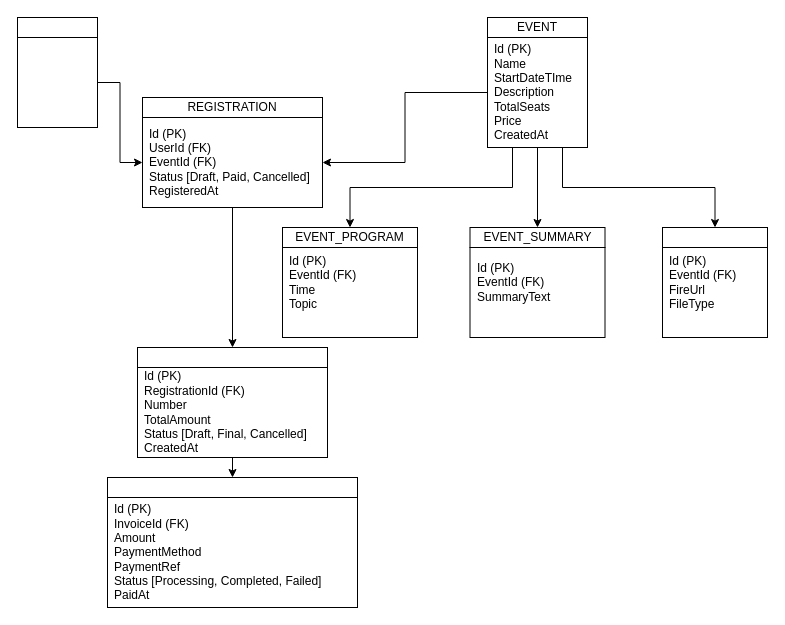
The diagram is 785 pixels wide and 625 high, and some of its shapes have lost their labels. Here are the shapes that lost their labels. From the top down, the centre of each, then its label:
(x=57, y=27): USER
(x=57, y=82): Id (PK) Name Email Role CreatedAt
(x=715, y=237): EVENT_FILES
(x=232, y=357): INVOICE
(x=232, y=487): PAYMENT
